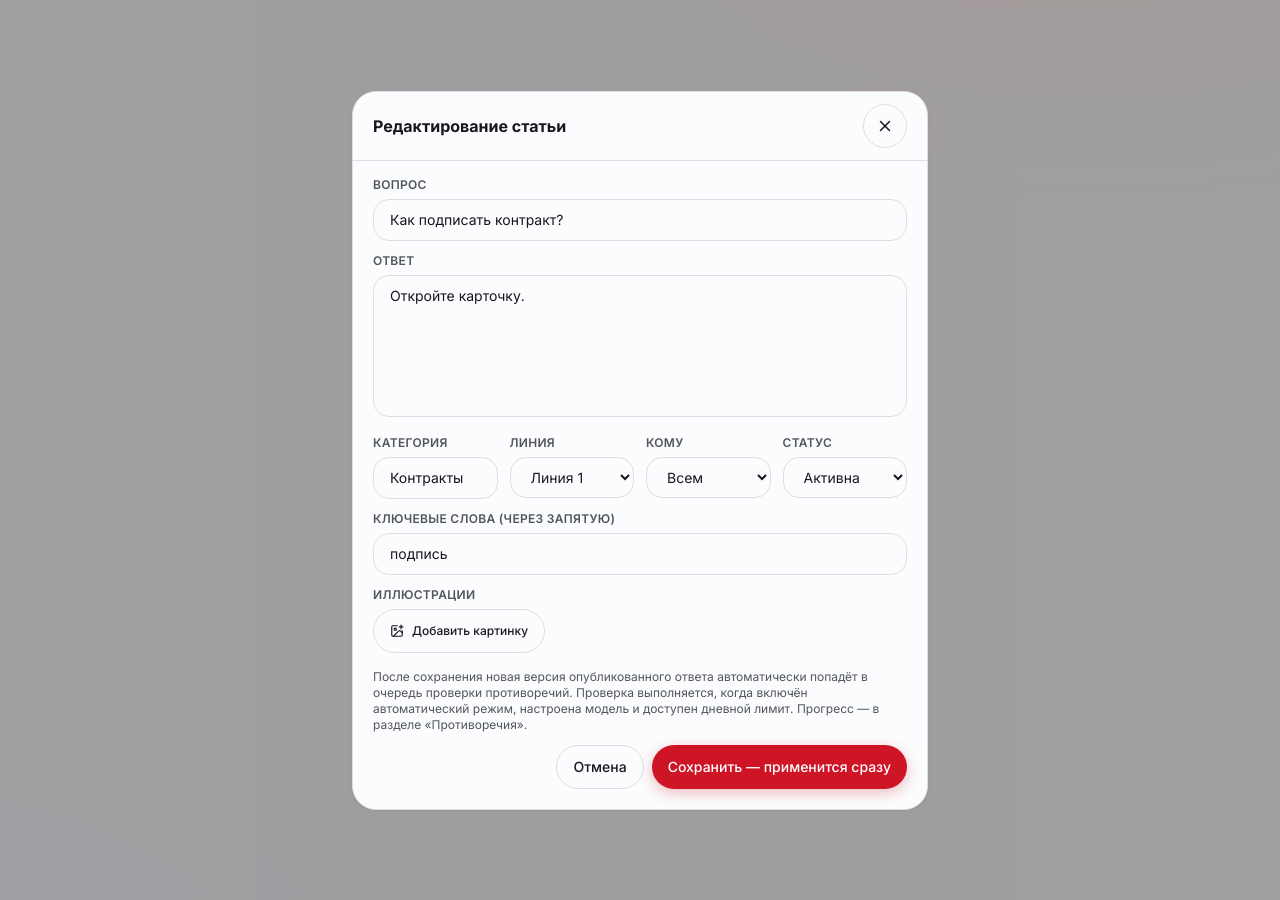
Scenario: ArticleEditor › сохранение не прошло — ошибка в окне, правка на месте
Type " Нажмите «Подписать»." into the text box named "Ответ" at (640, 346), box [373,274,907,416]
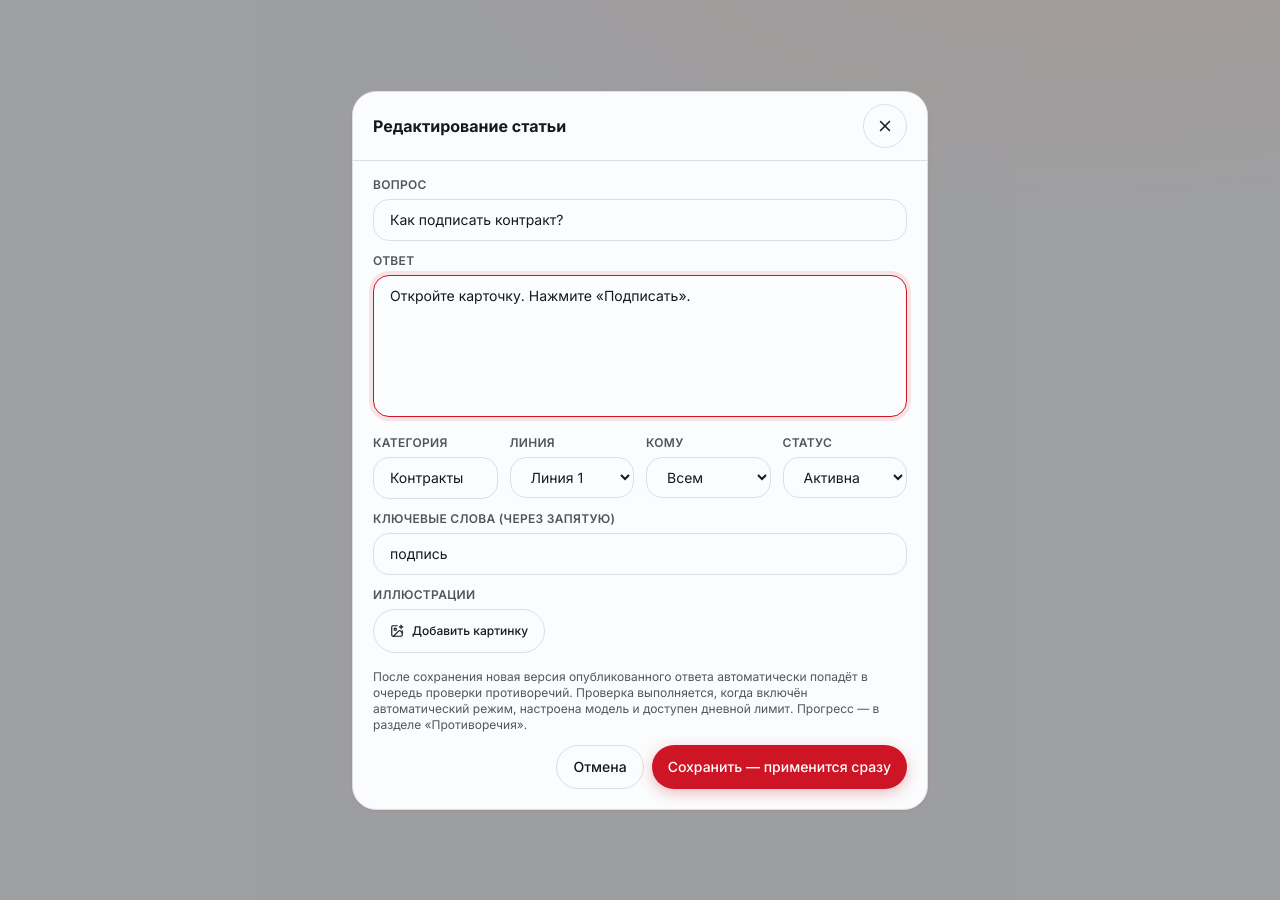
Click the button "Сохранить — применится сразу" at (779, 766), box [652,744,907,788]
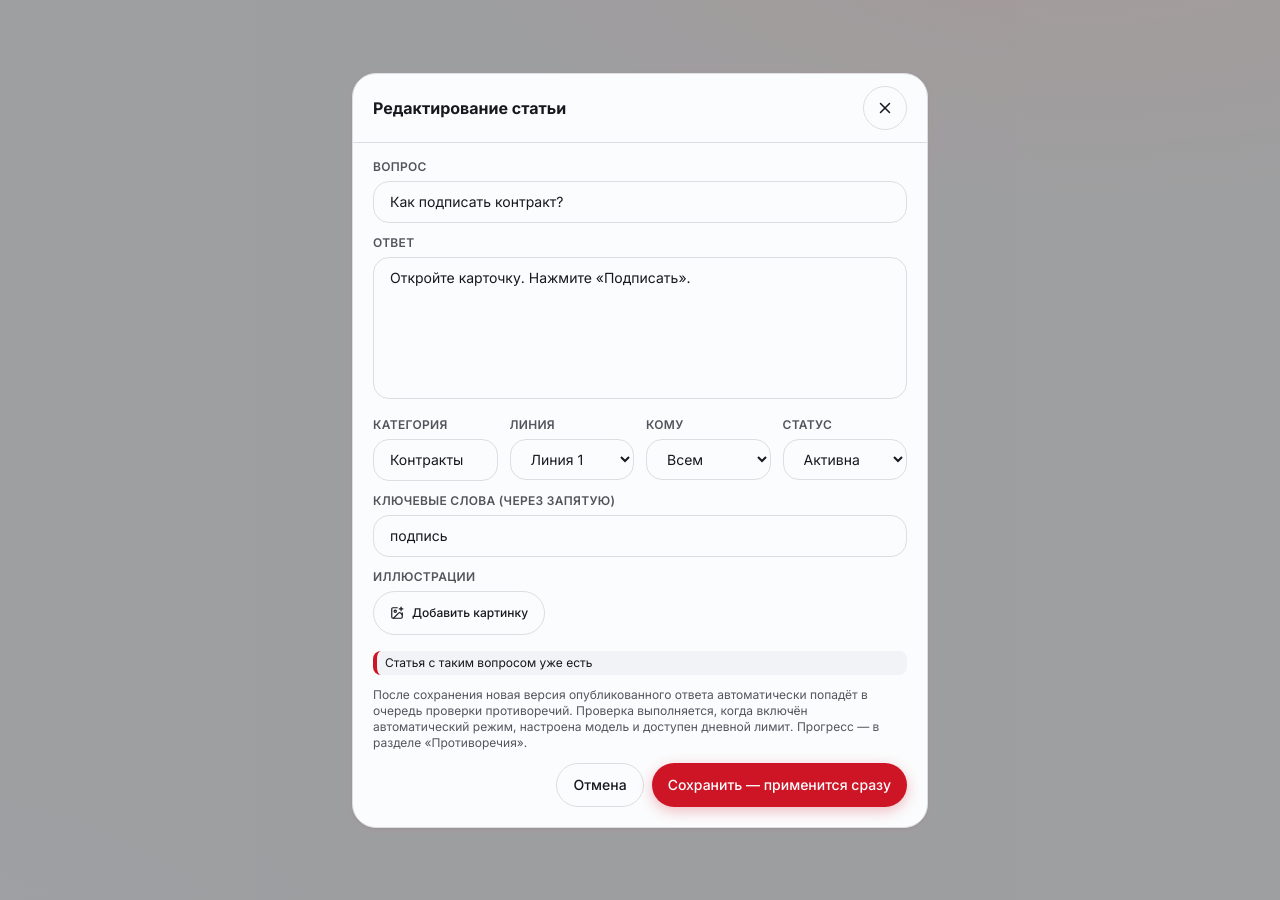
Now the text box named "Ответ" holds "Откройте карточку. Нажмите «Подписать».", box [373,256,907,398]
Now the message reads "Статья с таким вопросом уже есть", box [385,654,592,670]
